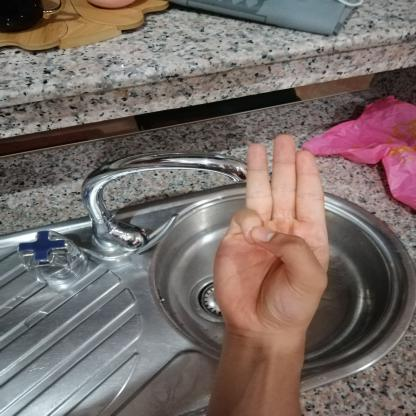THA: (200, 127, 341, 339)
